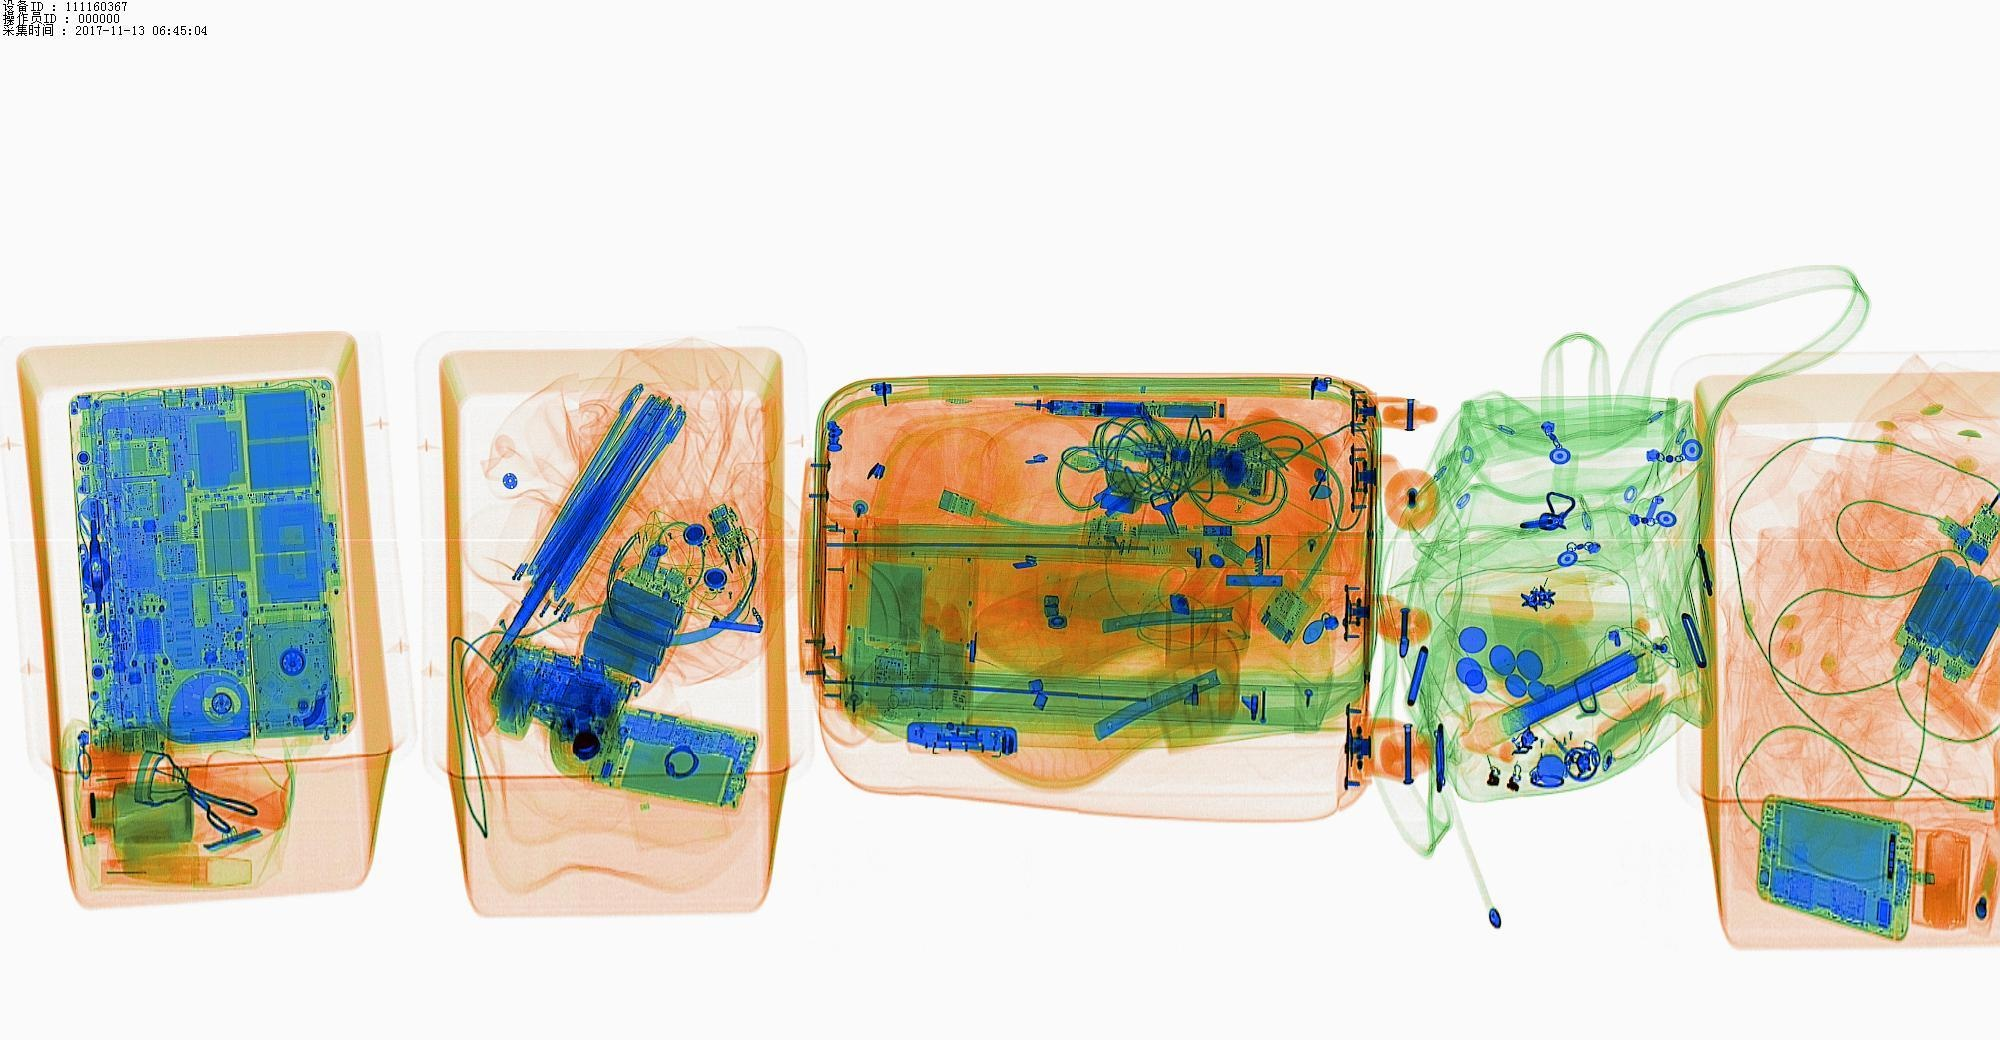core: (1903, 560, 1993, 681), (597, 565, 675, 684)
